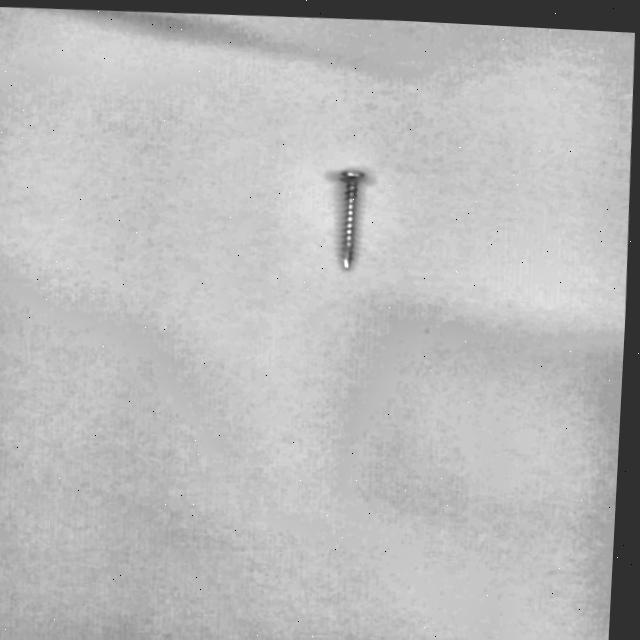Sheet metal screw: (336, 163, 370, 264)
